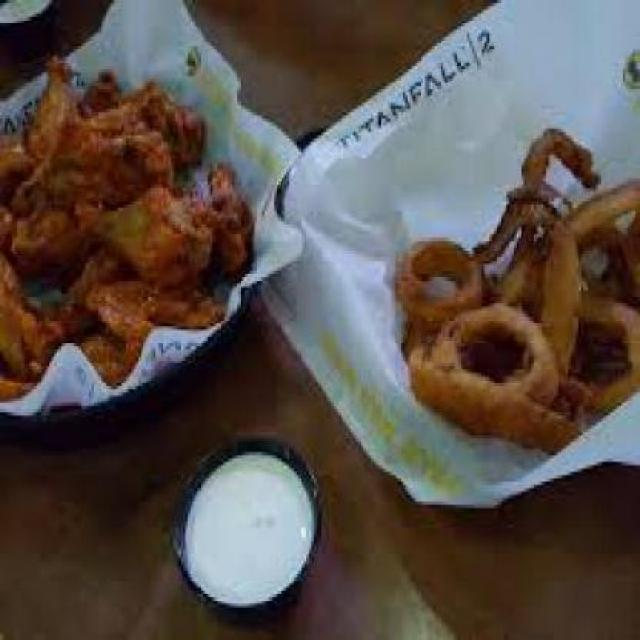onion rings: (380, 110, 638, 456)
